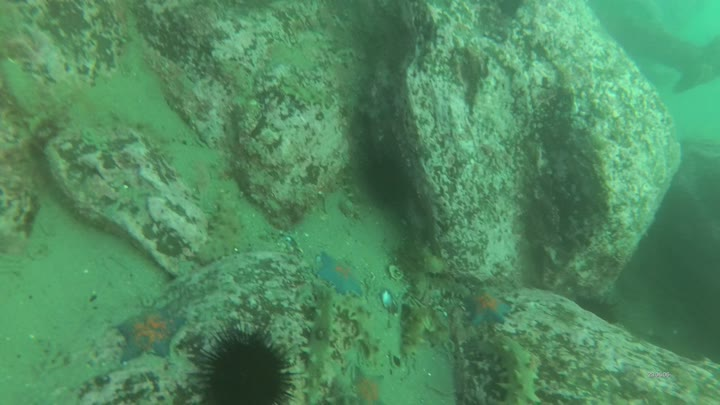echinus: (187, 317, 304, 405)
holothurian: (301, 294, 341, 405), (482, 334, 542, 405), (401, 307, 428, 361), (343, 167, 364, 204)
starfish: (116, 305, 190, 363), (316, 251, 364, 298), (465, 285, 513, 328), (350, 364, 388, 405), (44, 55, 72, 86)
